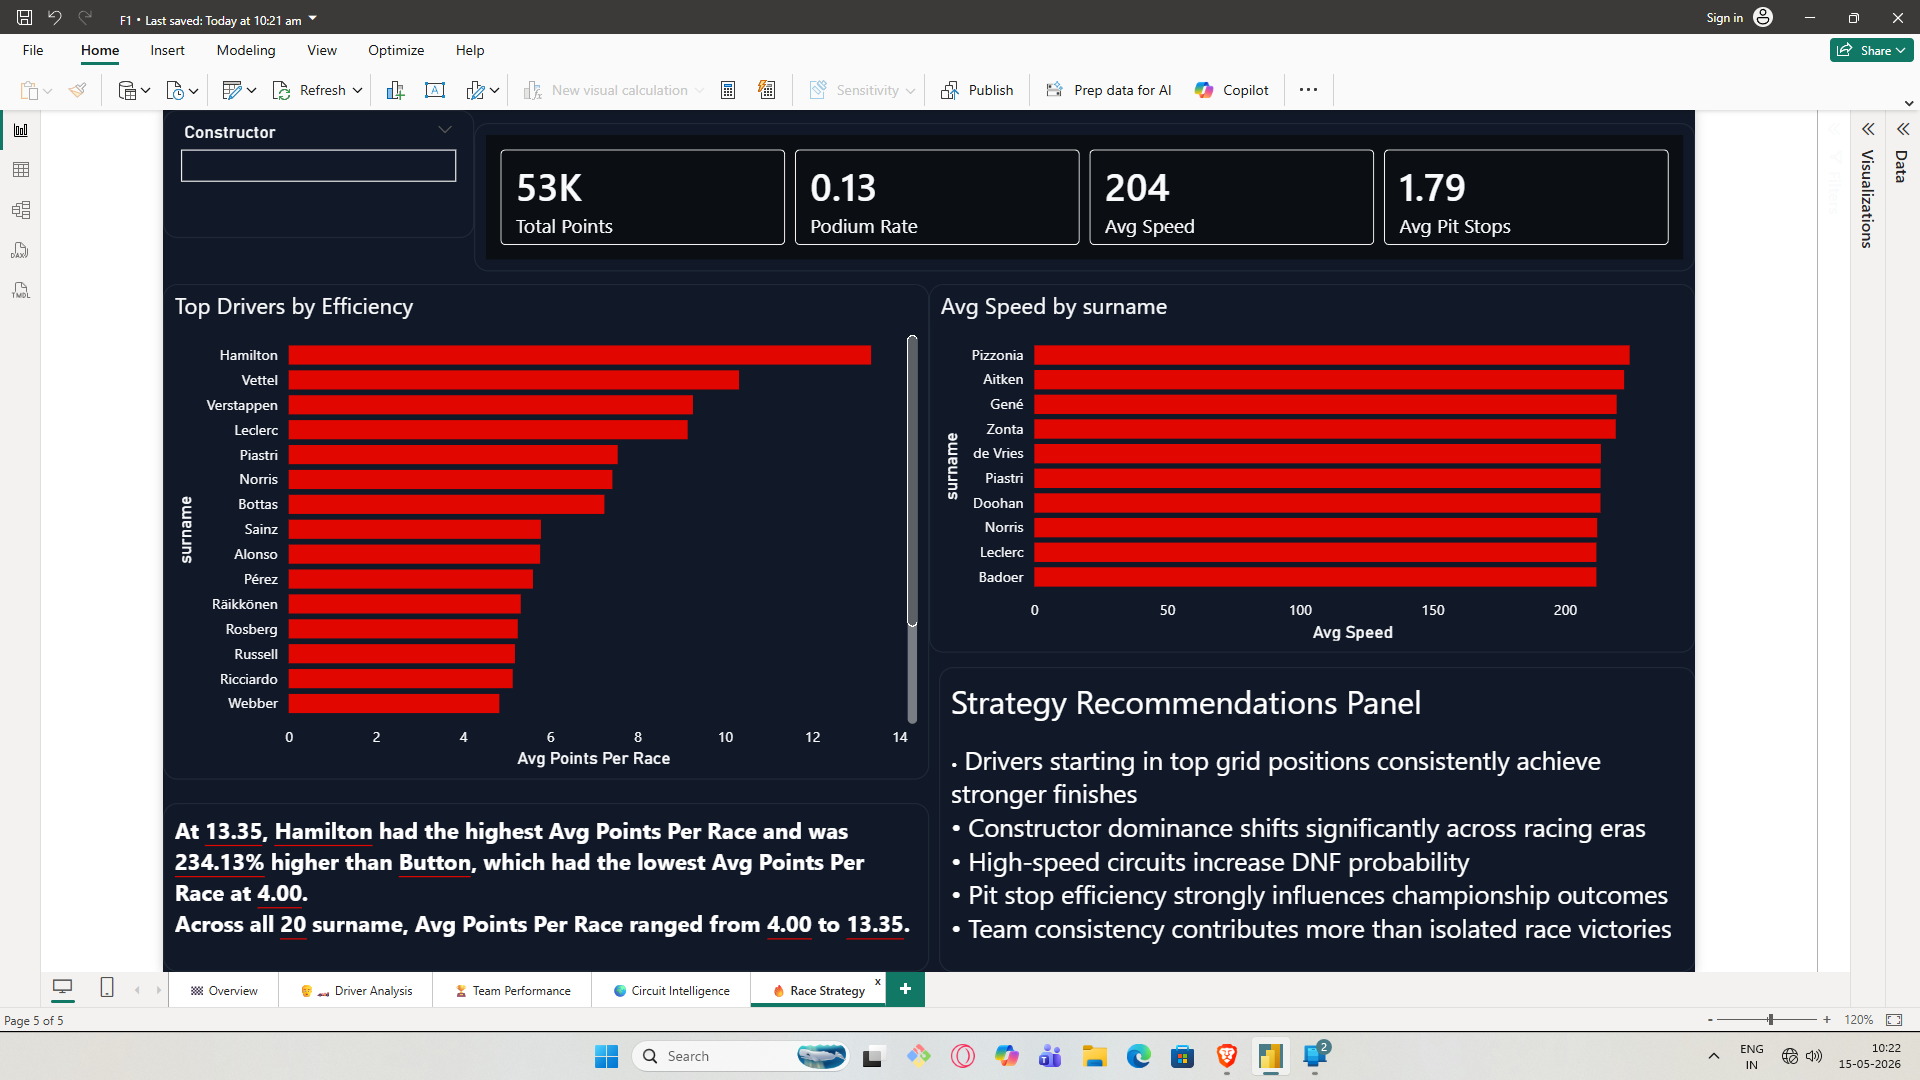

Layout of this report page (visuals, bound fields, positions):
{"tool":"powerbi","page":{"name":"🔥 Race Strategy","canvas":[1280,720],"ordinal":4},"visuals":[{"type":"cardVisual","fields":{"Data":["circuits.Total Points","circuits.Podium Rate","circuits.Avg Speed","circuits.Avg Pit Stops"]},"box":[259.7,10.7,1020.3,124.5],"z":0},{"type":"slicer","fields":{"Values":["constructors.name"]},"box":[0,0,259.7,107],"z":1000},{"type":"clusteredBarChart","title":"Top Drivers by Efficiency","fields":{"Category":["drivers.surname"],"Y":["circuits.Avg Points Per Race"]},"box":[0,144.9,640,414.3],"z":2000},{"type":"textbox","box":[647.8,464.9,632.2,254.8],"z":3000},{"type":"clusteredBarChart","fields":{"Category":["drivers.surname"],"Y":["circuits.Avg Speed"]},"box":[640,144.9,640,308.3],"z":4000},{"type":"textbox","box":[0,578.7,640,141],"z":5000}]}

Visuals, with their boxes on the page's 1280x720 design canvas (x1, y1, x2, y2). These are canvas units, not pixel positions in the 1920x1080 screenshot, which may show the page scaled, cropped or inside an application window:
cardVisual - circuits.Total Points x circuits.Podium Rate: left=260, top=11, right=1280, bottom=135
slicer - constructors.name: left=0, top=0, right=260, bottom=107
"Top Drivers by Efficiency" clusteredBarChart: left=0, top=145, right=640, bottom=559
textbox: left=648, top=465, right=1280, bottom=720
clusteredBarChart - drivers.surname x circuits.Avg Speed: left=640, top=145, right=1280, bottom=453
textbox: left=0, top=579, right=640, bottom=720
